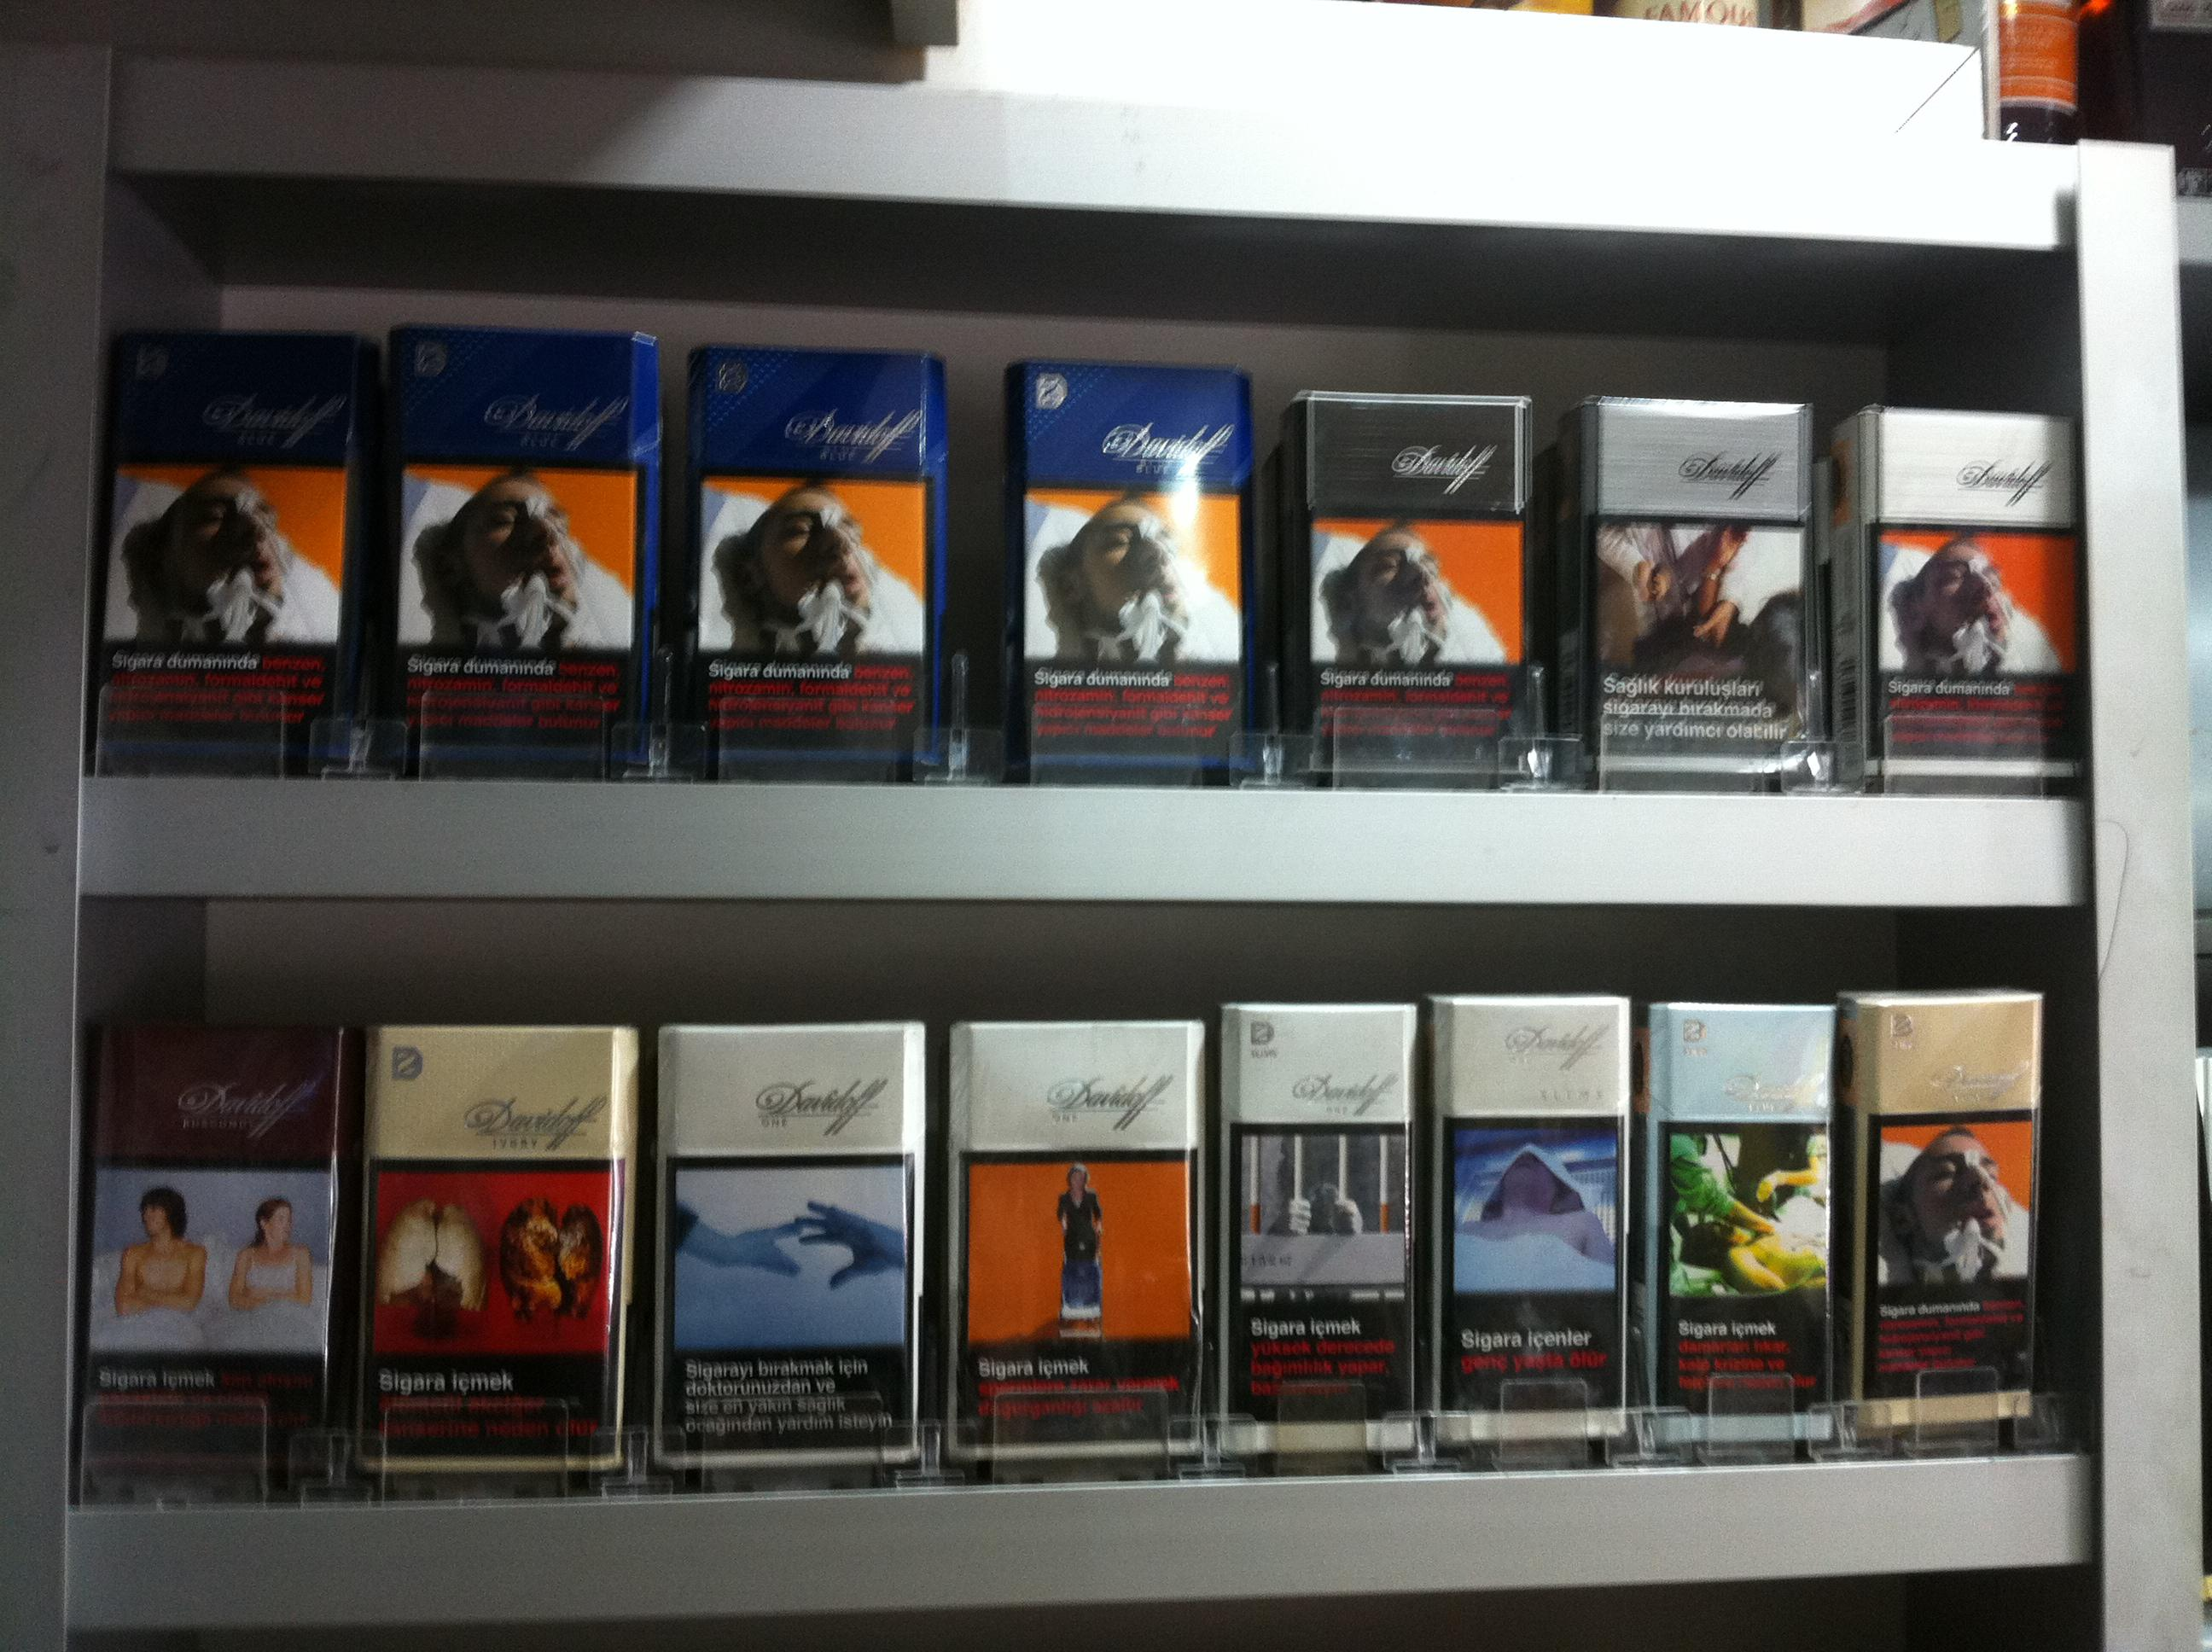product: (632, 1001, 916, 1499), (930, 987, 1213, 1485), (90, 324, 394, 769), (970, 349, 1273, 793), (370, 318, 673, 762), (663, 328, 966, 772), (345, 991, 605, 1489), (83, 1001, 342, 1499), (1280, 380, 1554, 779), (1837, 963, 2063, 1445), (1572, 390, 1844, 790), (1216, 980, 1442, 1461), (1428, 980, 1653, 1461), (1626, 977, 1851, 1458), (1837, 390, 2084, 790)
